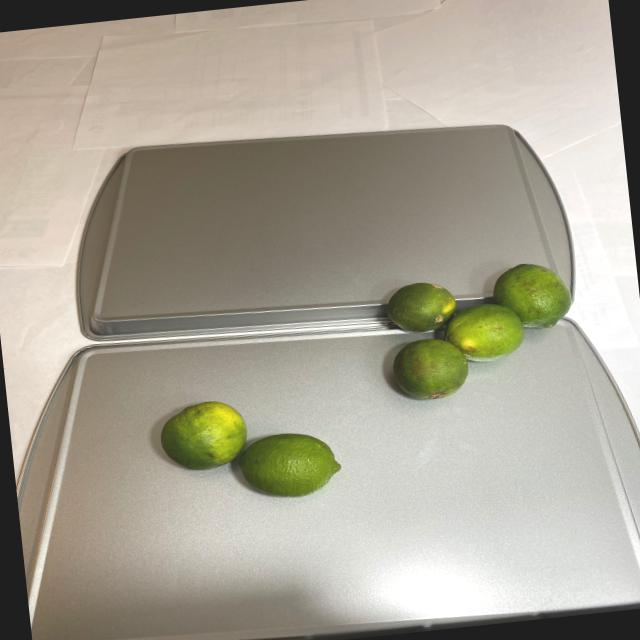lemon: (378, 254, 585, 405), (149, 384, 352, 522)
